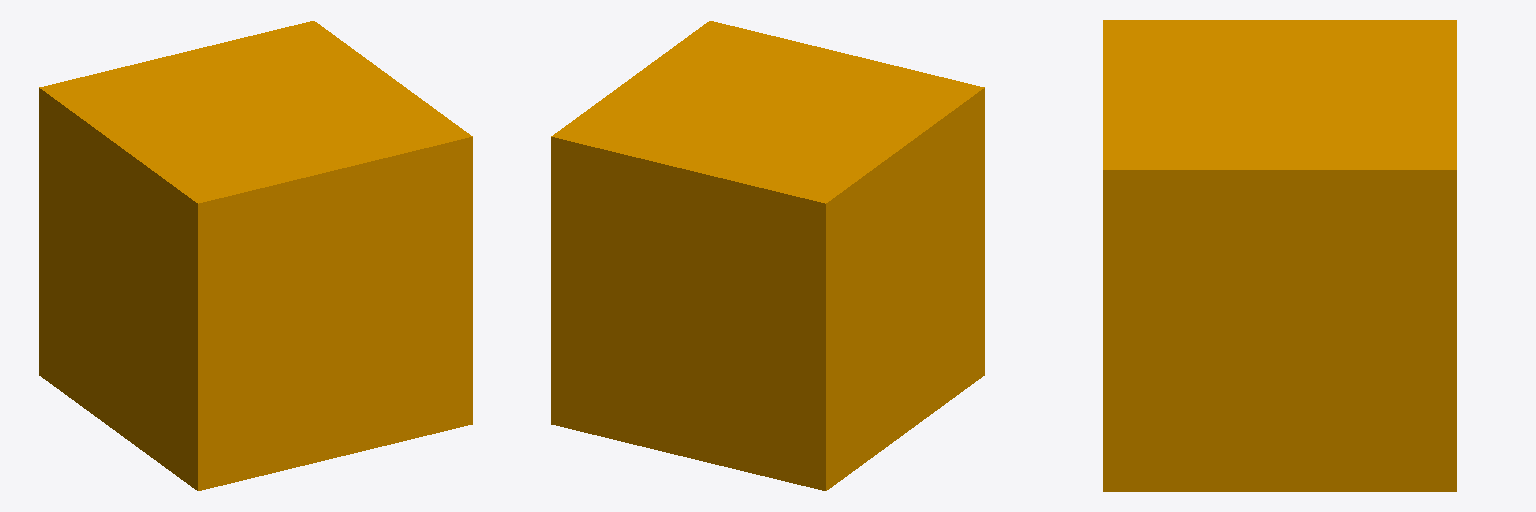
The robot description file, URDF, robot "simple_box":
<robot name="simple_box">
  <link name="my_box">
    <inertial>
      <origin xyz="3 3 0.0145"/>
      <mass value="0.1" />
      <inertia  ixx="0.0001" ixy="0.0"  ixz="0.0"  iyy="0.0001"  iyz="0.0"  izz="0.0001" />
    </inertial>
    <visual>
      <origin xyz="3 3 0.0145"/>
      <geometry>
        <box size="0.029 0.029 0.029"/>
      </geometry>
    </visual>
    <collision>
      <origin xyz="3 3 0.0145"/>
      <geometry>
        <box size="0.029 0.029 0.029"/>
      </geometry>
    </collision>
  </link>
  <gazebo reference="my_box">
    <material>Gazebo/Blue</material>
  </gazebo>
</robot>

--- Facts derived from the render (not from the file) ---
The picture shows the robot from 3 angles, left to right: view 1: azimuth 30°, elevation 25°; view 2: azimuth 150°, elevation 25°; view 3: azimuth 270°, elevation 25°; orthographic projection.
Robot: simple_box — 1 links, 0 joints (none); root link my_box; default pose: all joints at 0.
Visible links, largest first — view 1: my_box; view 2: my_box; view 3: my_box.
Boxes of the visible links, box(x1,y1,x2,y2) form: my_box: box(39, 21, 472, 490); my_box: box(551, 21, 984, 490); my_box: box(1103, 20, 1456, 491).
Bounding box of the posed robot: 0.029 × 0.029 × 0.029 m (x, y, z).
Geometry: primitives only (box / cylinder / sphere), no mesh files.